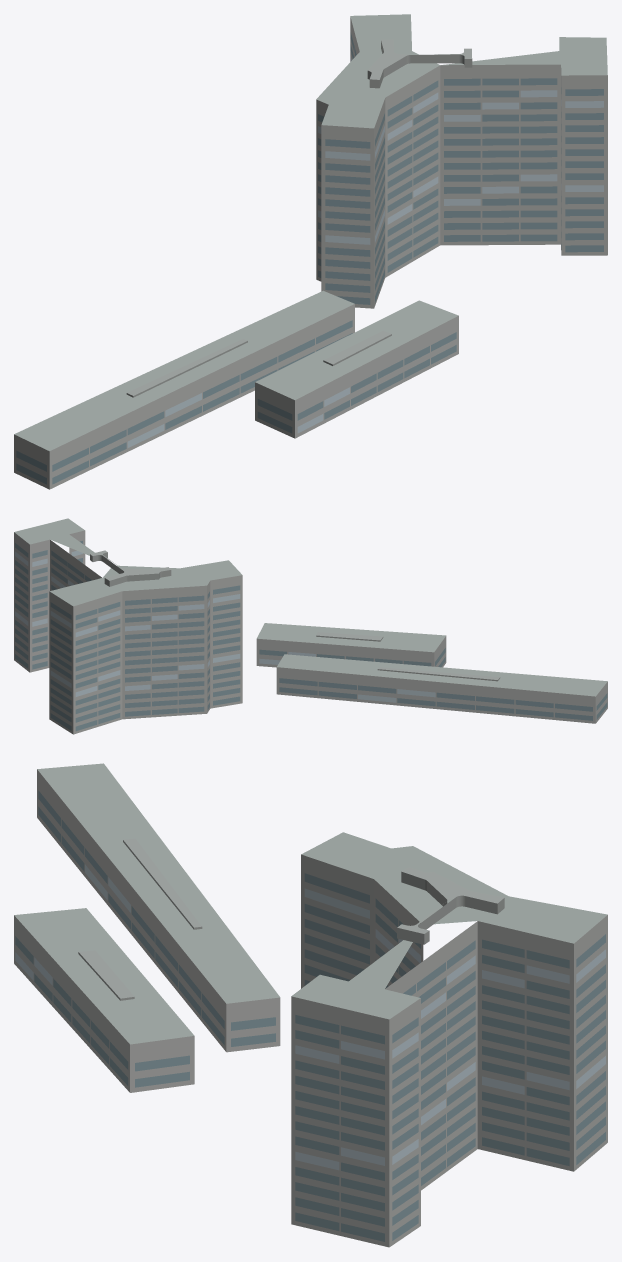
Rendered from apt-a10024581.glb.
3 views of the same model, one above another, from view 1: azimuth 30°, elevation 25°; view 2: azimuth 150°, elevation 25°; view 3: azimuth 270°, elevation 25° (orthographic). The views are drawn at different scales.
Visible parts, largest first — view 1: apt-a10024581; view 2: apt-a10024581; view 3: apt-a10024581.
Boxes of the visible parts, bbox=[...] form: apt-a10024581: bbox=[14, 14, 607, 489]; apt-a10024581: bbox=[14, 518, 607, 734]; apt-a10024581: bbox=[14, 763, 607, 1247].
Bounding box in the file's own units: 176 × 45 × 101.
